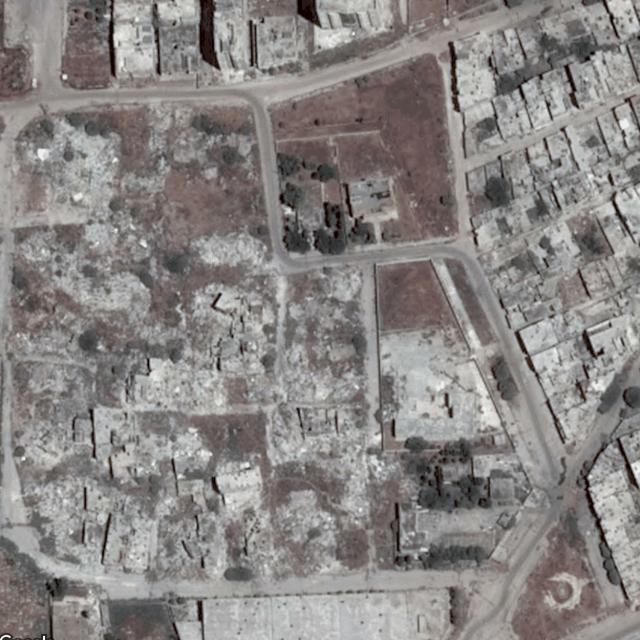damaged_building: (266, 262, 402, 534), (14, 116, 164, 320), (126, 223, 275, 406), (5, 298, 91, 468), (206, 487, 347, 579), (145, 101, 254, 180), (23, 475, 100, 565), (154, 519, 196, 579), (152, 430, 212, 467)
